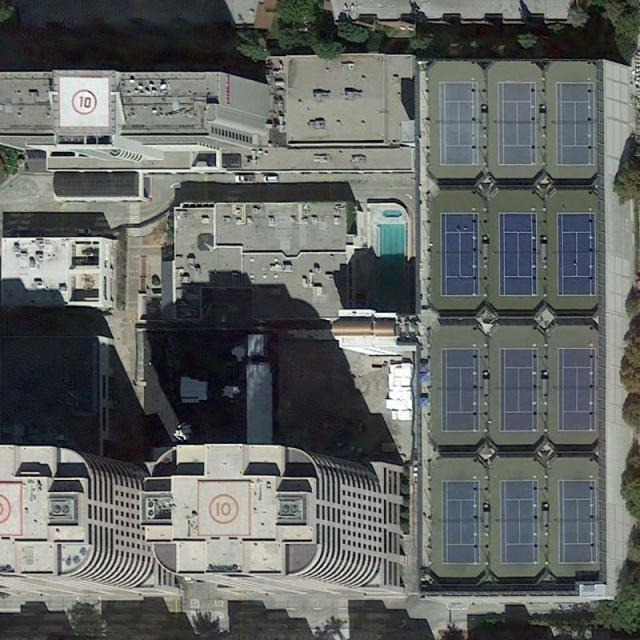vehicle: (235, 175, 255, 182), (264, 176, 279, 182)
